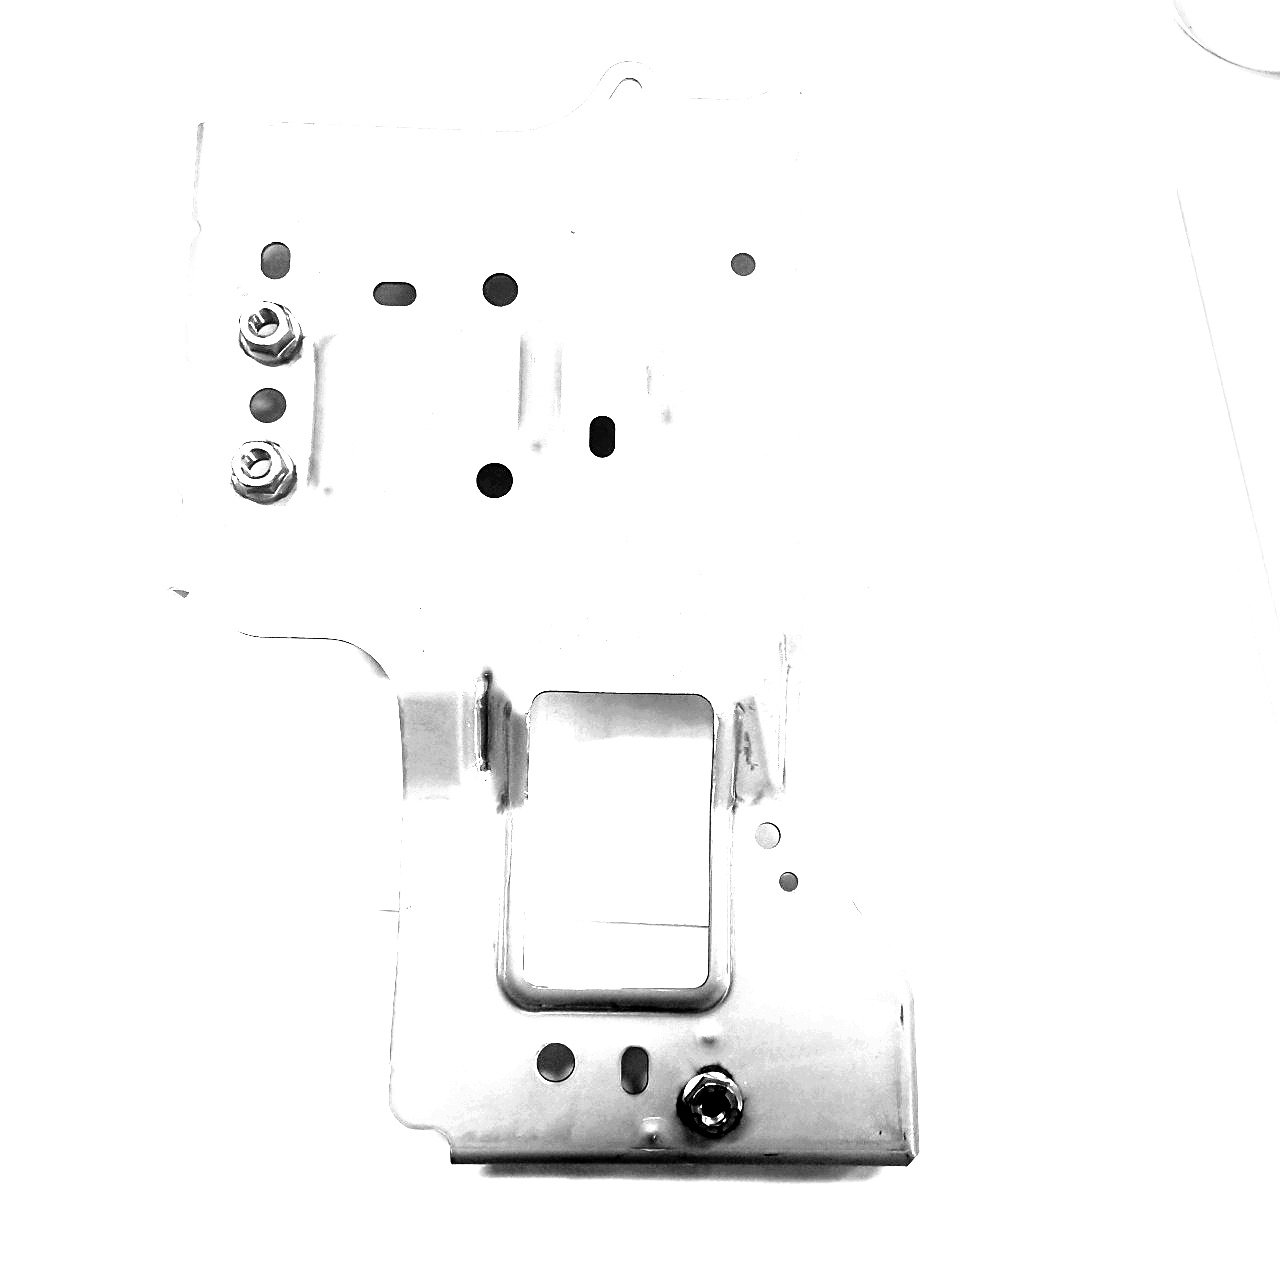dog: (674, 1064, 750, 1142), (234, 294, 308, 366), (226, 434, 297, 508)
